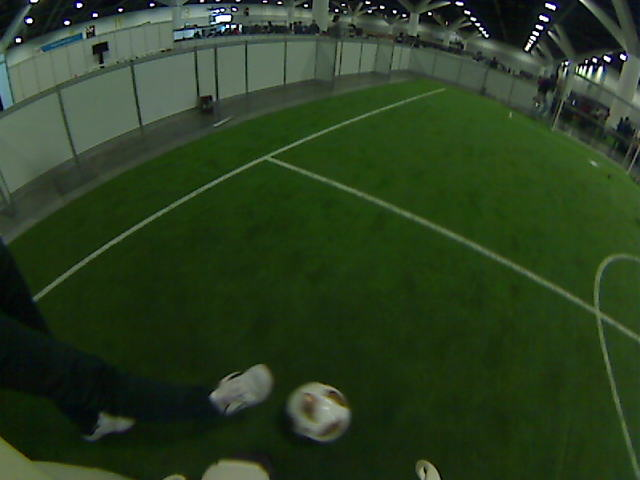ball: (297, 391, 337, 431)
goalpost: (547, 86, 563, 133), (624, 123, 634, 175)
